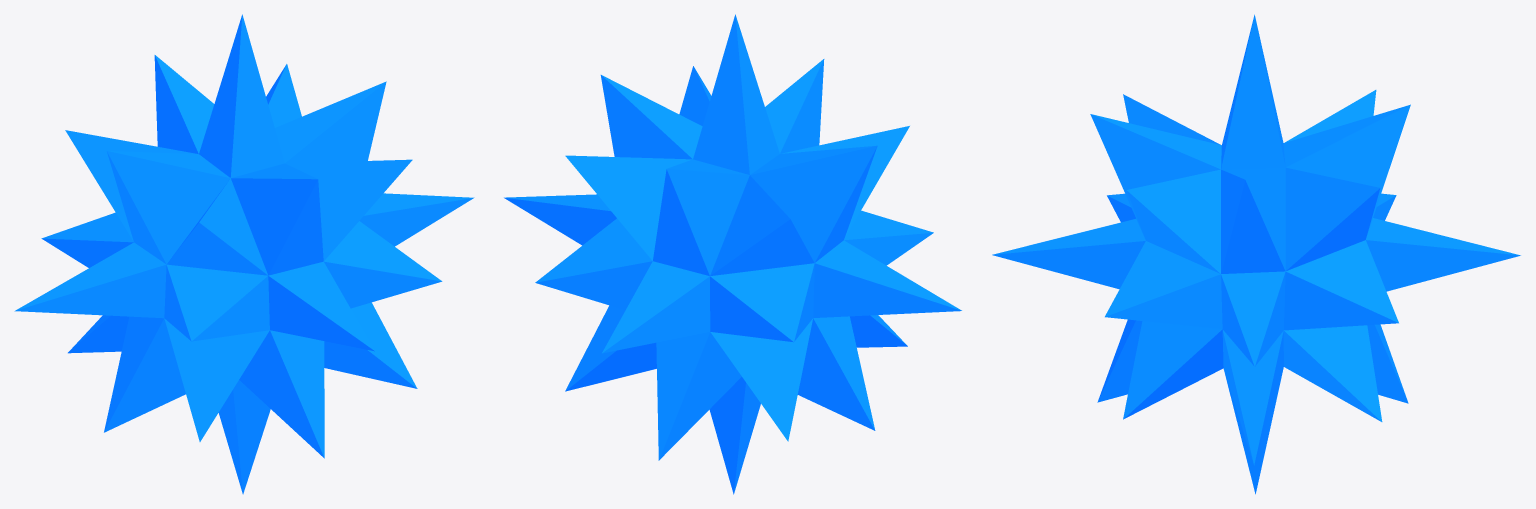
The model's file is Star2.glb.
3 views of the same model, side by side, from view 1: azimuth 30°, elevation 25°; view 2: azimuth 150°, elevation 25°; view 3: azimuth 270°, elevation 25° (orthographic).
Parts seen in each view (by area): view 1: Moravian_Star.002; view 2: Moravian_Star.002; view 3: Moravian_Star.002.
Boxes of the visible parts, x1,y1,x2,y2 form: Moravian_Star.002: [14, 14, 474, 494]; Moravian_Star.002: [504, 14, 961, 494]; Moravian_Star.002: [992, 14, 1520, 494].
Bounding box in the file's own units: 1 × 1 × 1.
